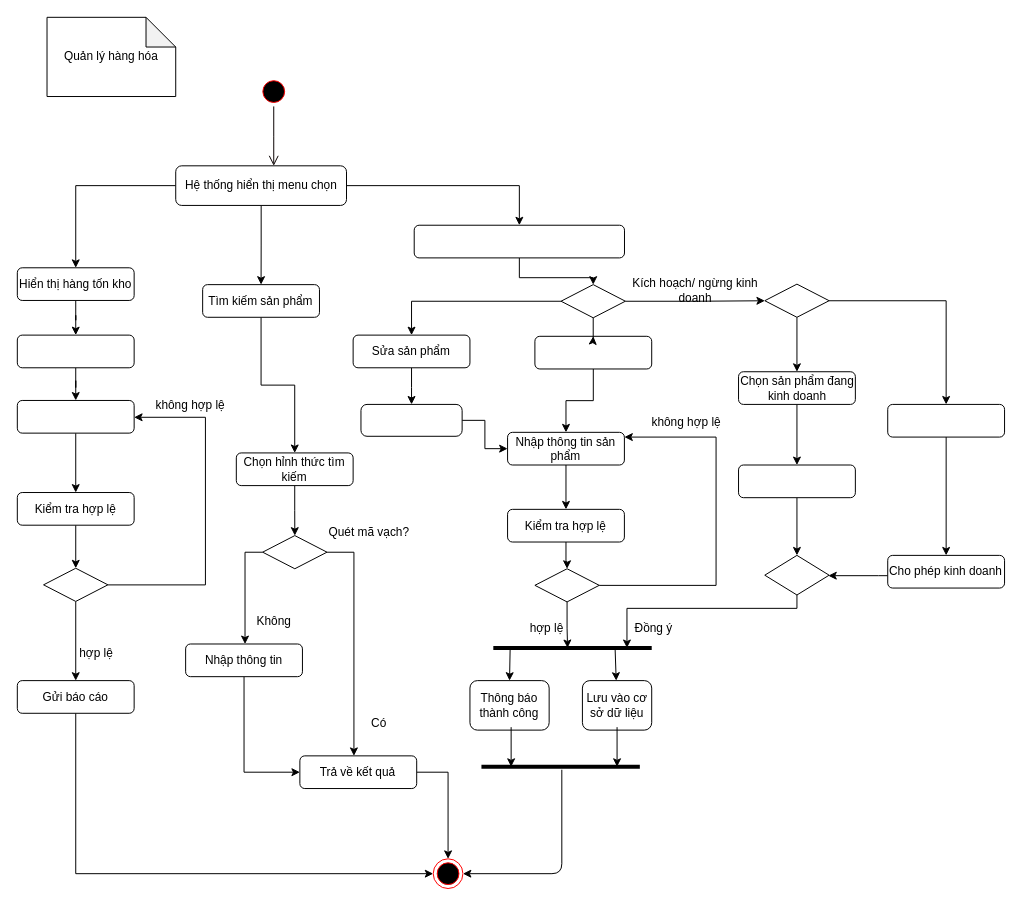
This 1023x906 diagram has some shape labels left out. The centre of each missing label's shape, as x and y in pixels:
"Báo cáo hàng hóa" belongs at (x=75, y=416).
"Chọn 1 hay nhiều sản phẩm" belongs at (x=75, y=351).
"Chọn hàng hóa ngừng kinh doanh" belongs at (x=946, y=420).
"Chọn sản phẩm" belongs at (x=411, y=419).
"Lưu?" belongs at (x=796, y=574).
"Ngừng kinh doanh" belongs at (x=796, y=481).
"Quản lý hàng hóa; thương hiệu" belongs at (x=518, y=241).
"Thêm sản phẩm" belongs at (x=593, y=352).
